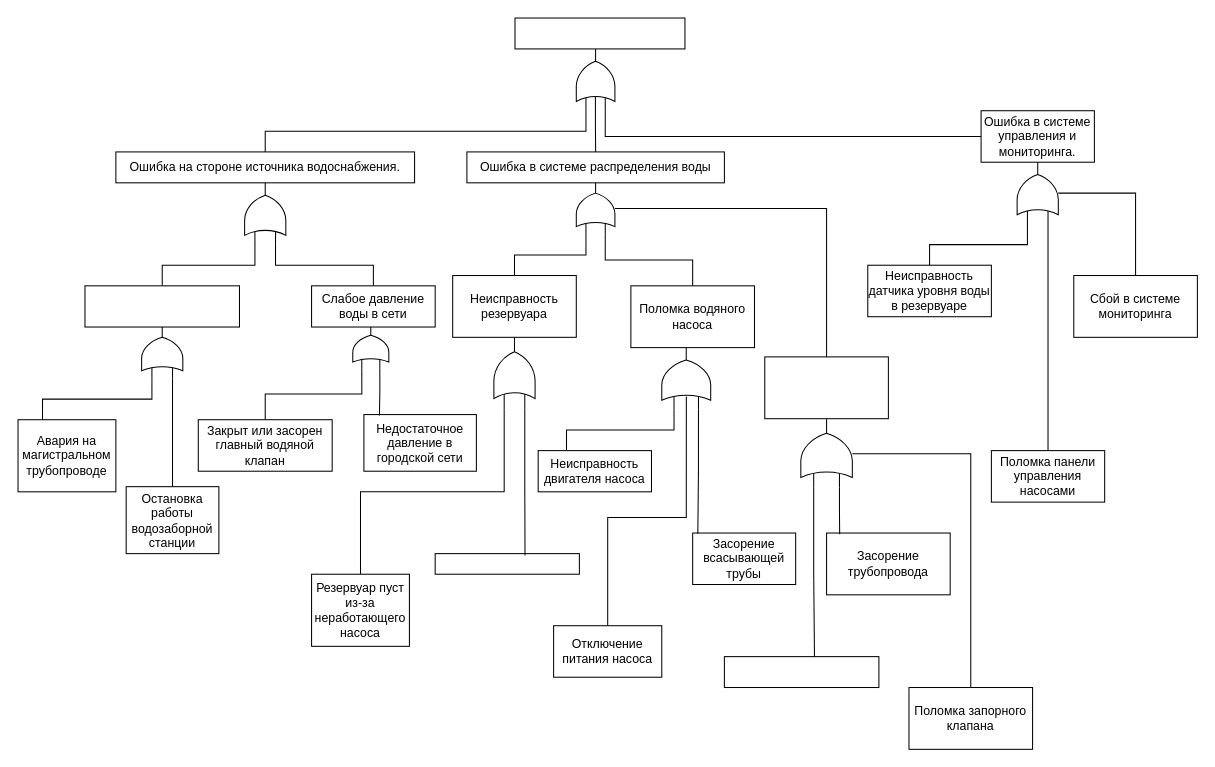
Some shapes in this 1215 by 767 pixel diagram are drawn without their labels. The shapes that lost their labels are listed below. From the top down, each one's centre as x and y in pixels, then its label:
At (x=599, y=33): "Отсутствие воды в здании".
At (x=161, y=306): "Отсутствие воды с водозаборной станции".
At (x=826, y=387): "Проблемы с трубопроводной системой в здании".
At (x=506, y=563): "Протечка резервуара".
At (x=801, y=672): "Протечка трубопровода".
